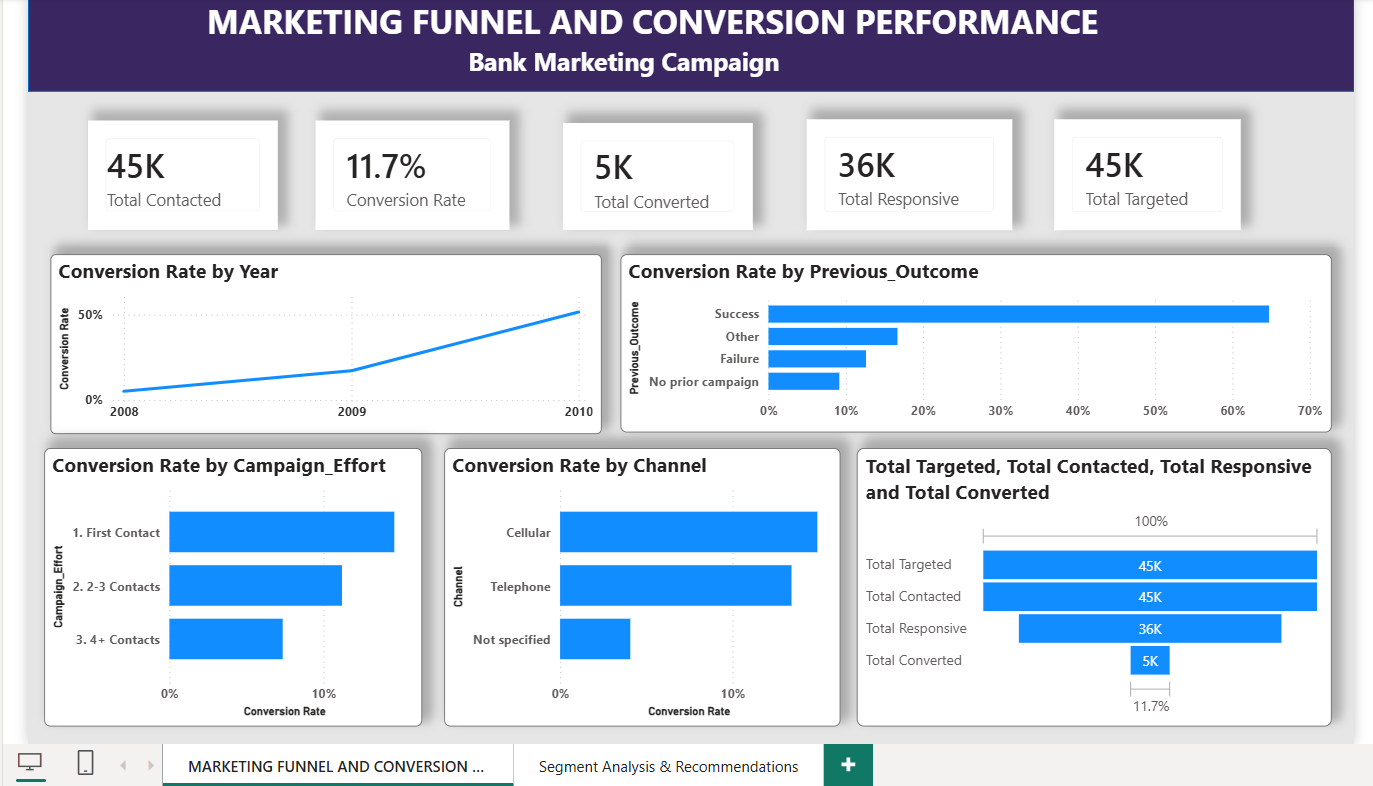

What the dashboard file says about the page in this screenshot:
{"tool":"powerbi","page":{"name":"MARKETING FUNNEL AND CONVERSION PERFORMANCE DASHBOARD ","canvas":[1280,720],"ordinal":0},"visuals":[{"type":"cardVisual","fields":{"Data":["DateTable.Total Contacted"]},"box":[58.3,118,183.1,105.8],"z":0},{"type":"cardVisual","fields":{"Data":["DateTable.Total Converted"]},"box":[516.7,120.7,183.1,103.1],"z":1000},{"type":"cardVisual","fields":{"Data":["DateTable.Conversion Rate"]},"box":[278,118,187.2,105.8],"z":2000},{"type":"cardVisual","fields":{"Data":["DateTable.Total Responsive"]},"box":[751.3,116.6,198,107.1],"z":3000},{"type":"cardVisual","fields":{"Data":["DateTable.Total Targeted"]},"box":[990,116.6,180.4,107.1],"z":4000},{"type":"funnel","fields":{"Y":["DateTable.Total Targeted","DateTable.Total Contacted","DateTable.Total Responsive","DateTable.Total Converted"]},"box":[800.2,434,458.4,268.5],"z":5000},{"type":"clusteredBarChart","fields":{"Category":["bank_marketing_funnel.Channel"],"Y":["DateTable.Conversion Rate"]},"box":[401.4,434,382.5,268.5],"z":6000},{"type":"clusteredBarChart","fields":{"Category":["bank_marketing_funnel.Previous_Outcome"],"Y":["DateTable.Conversion Rate"]},"box":[572.3,246.8,686.2,172.2],"z":7000},{"type":"lineChart","fields":{"Y":["DateTable.Conversion Rate"],"Category":["DateTable.Date.Variation.Date Hierarchy.Year"]},"box":[21.7,246.8,531.6,173.6],"z":8000},{"type":"clusteredBarChart","fields":{"Y":["DateTable.Conversion Rate"],"Category":["bank_marketing_funnel.Campaign_Effort"]},"box":[16.3,434,364.8,268.5],"z":9000},{"type":"shape","box":[0,0,1280.3,90.6],"z":10000},{"type":"textbox","title":"MARKETING FUNNEL AND CONVERSION PERFORMANCE","box":[167.4,0,1020.9,70],"z":11000},{"type":"textbox","title":"Bank Marketing Campaign","box":[420.4,44.8,340.4,40.7],"z":12000}]}

Visuals, with their boxes on the page's 1280x720 design canvas (x1, y1, x2, y2). These are canvas units, not pixel positions in the 1373x786 screenshot, which may show the page scaled, cropped or inside an application window:
cardVisual - DateTable.Total Contacted: bbox=(58, 118, 241, 224)
cardVisual - DateTable.Total Converted: bbox=(517, 121, 700, 224)
cardVisual - DateTable.Conversion Rate: bbox=(278, 118, 465, 224)
cardVisual - DateTable.Total Responsive: bbox=(751, 117, 949, 224)
cardVisual - DateTable.Total Targeted: bbox=(990, 117, 1170, 224)
funnel - DateTable.Total Targeted x DateTable.Total Contacted: bbox=(800, 434, 1259, 702)
clusteredBarChart - bank_marketing_funnel.Channel x DateTable.Conversion Rate: bbox=(401, 434, 784, 702)
clusteredBarChart - bank_marketing_funnel.Previous_Outcome x DateTable.Conversion Rate: bbox=(572, 247, 1258, 419)
lineChart - DateTable.Conversion Rate x DateTable.Date.Variation.Date Hierarchy.Year: bbox=(22, 247, 553, 420)
clusteredBarChart - DateTable.Conversion Rate x bank_marketing_funnel.Campaign_Effort: bbox=(16, 434, 381, 702)
shape: bbox=(0, 0, 1280, 91)
"MARKETING FUNNEL AND CONVERSION PERFORMANCE" textbox: bbox=(167, 0, 1188, 70)
"Bank Marketing Campaign" textbox: bbox=(420, 45, 761, 86)
